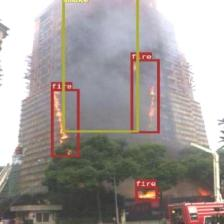fire: (130, 59, 159, 132), (50, 88, 79, 156), (134, 186, 158, 201)
smoke: (62, 0, 139, 132)
